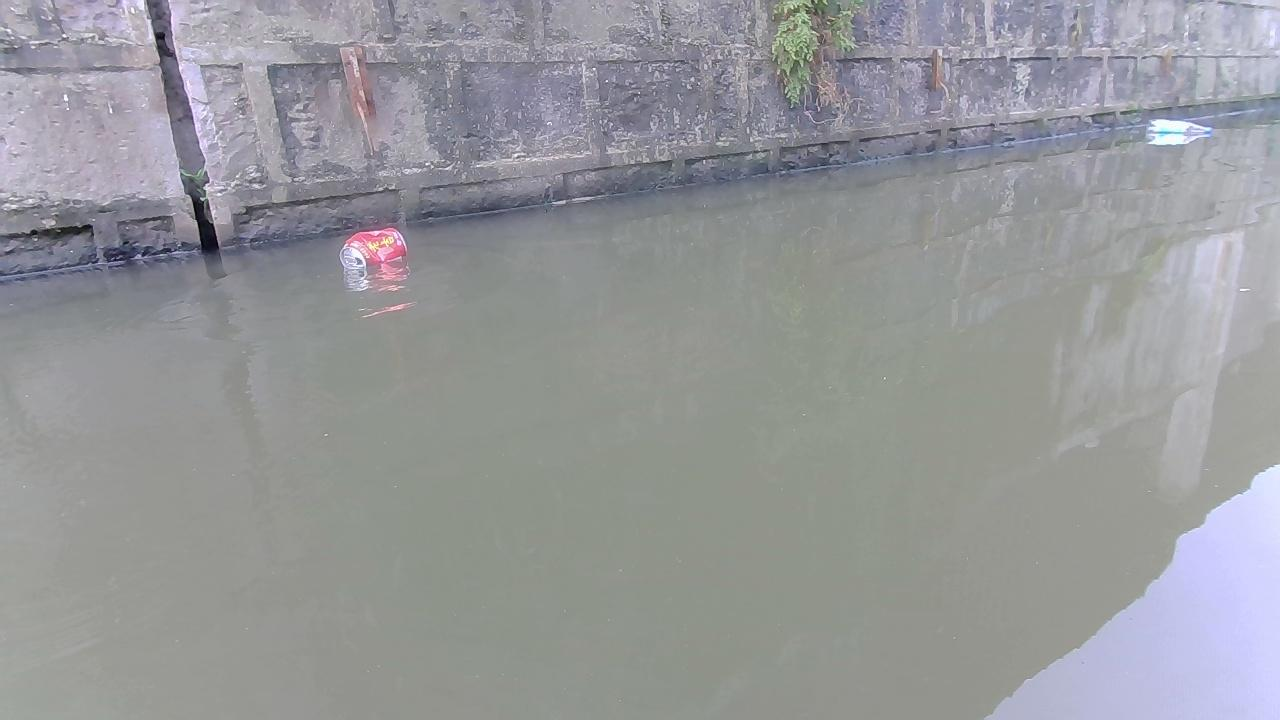bottle: (335, 223, 410, 276), (1141, 112, 1214, 143)
